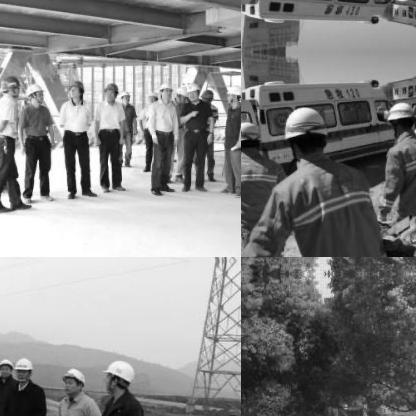Helmet: (280, 102, 328, 162), (100, 355, 136, 399), (386, 100, 414, 134), (241, 119, 261, 155), (60, 364, 84, 394), (12, 355, 31, 381), (24, 80, 44, 104), (0, 71, 18, 97), (68, 76, 84, 100), (102, 80, 118, 102), (184, 78, 200, 100), (224, 82, 240, 104), (158, 80, 172, 100), (199, 85, 213, 105), (0, 357, 13, 378), (119, 86, 132, 104), (175, 82, 185, 104), (146, 88, 158, 102)
